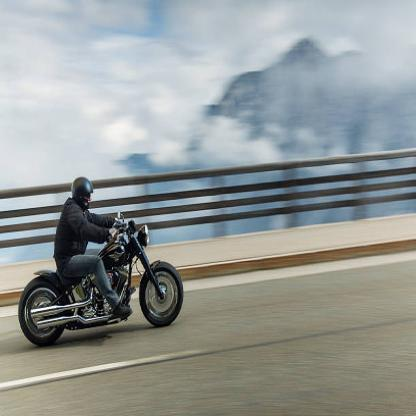Motorcycle: (16, 220, 186, 345)
